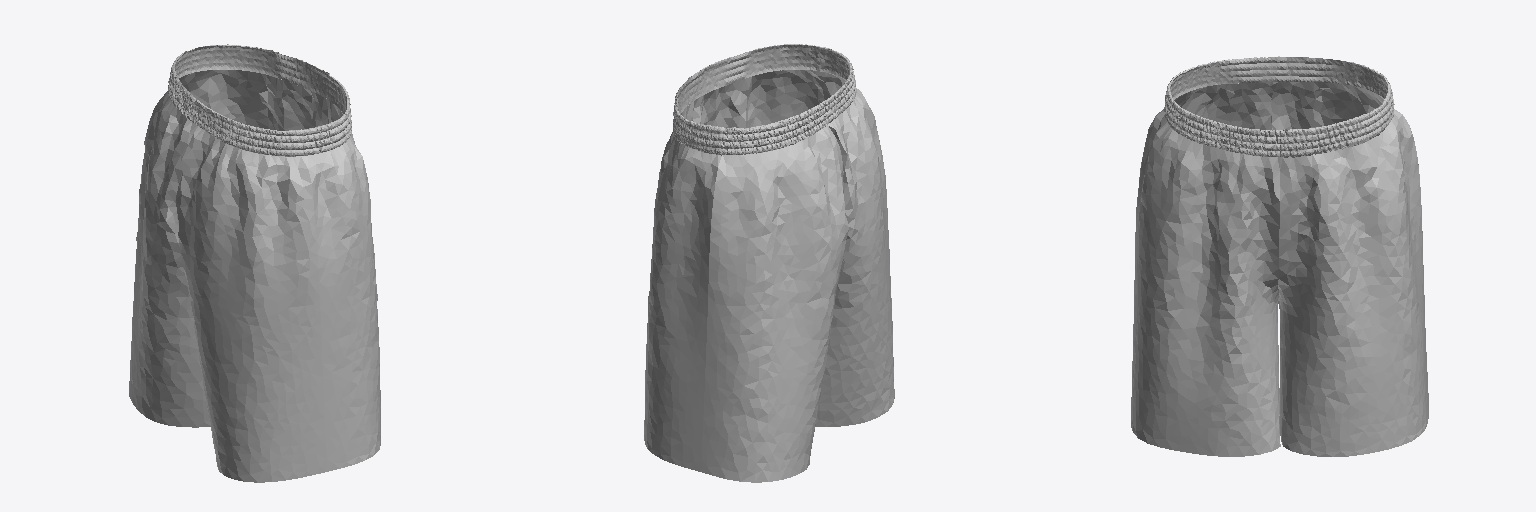
File: pantalonetaPlaya.obj
3 renders of one model, left to right at view 1: azimuth 30°, elevation 25°; view 2: azimuth 150°, elevation 25°; view 3: azimuth 270°, elevation 25°, orthographic.
Visible parts, largest first — view 1: default001; view 2: default001; view 3: default001.
Boxes of the visible parts, x1,y1,x2,y2 form: default001: [129, 44, 380, 482]; default001: [644, 44, 894, 482]; default001: [1131, 56, 1428, 456].
Bounding box in the file's own units: 25.27 × 47.54 × 37.52.